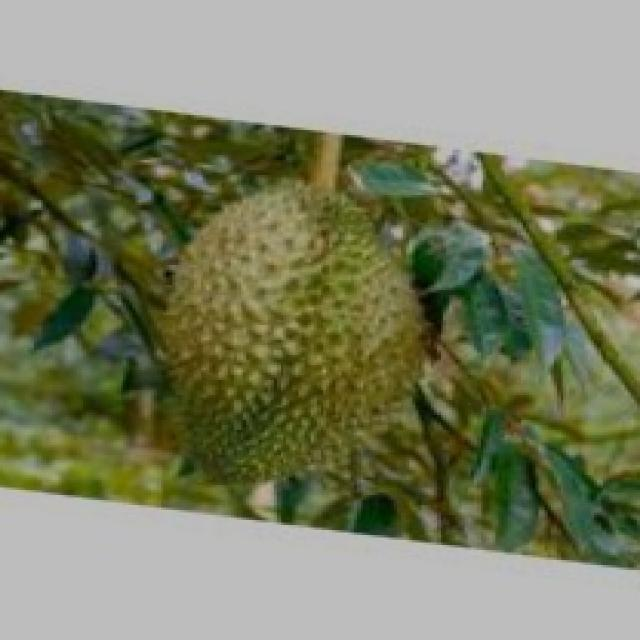fruit: (130, 155, 456, 517)
